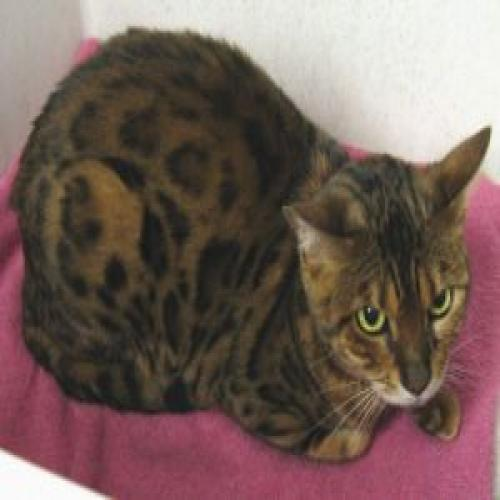bengal: (279, 113, 498, 415)
